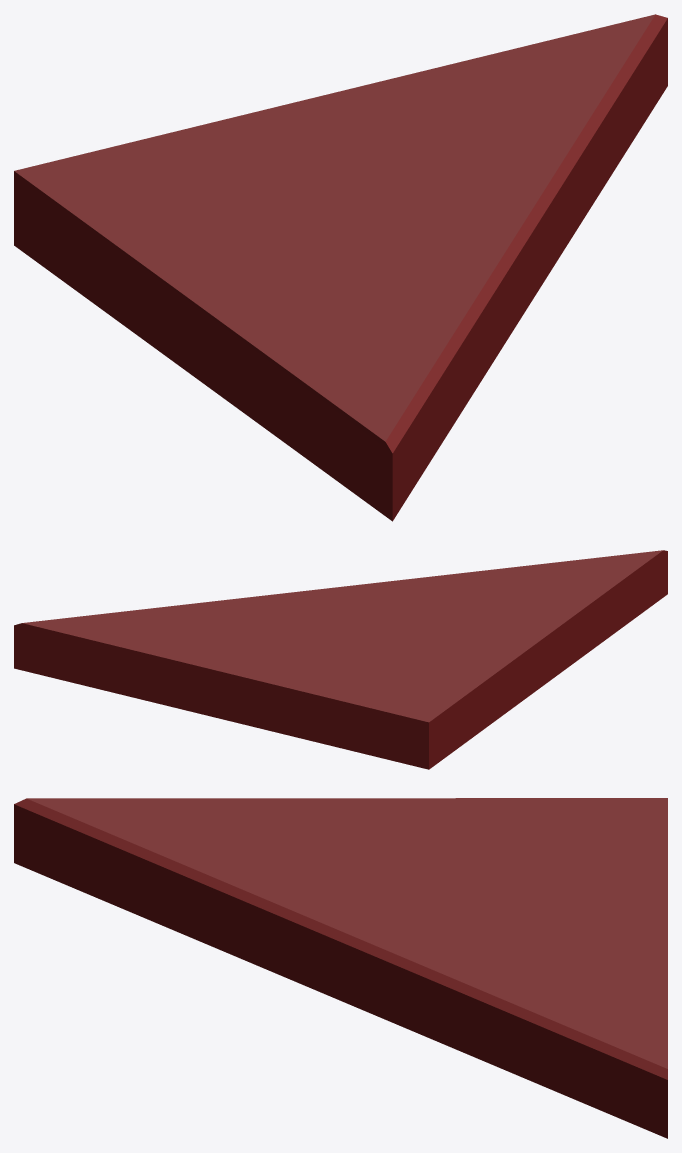
The model's file is Bottom_A02.fbx.
3 renders of one model, top to bottom at view 1: azimuth 30°, elevation 25°; view 2: azimuth 150°, elevation 25°; view 3: azimuth 270°, elevation 25°, orthographic. The views are drawn at different scales.
Visible parts, largest first — view 1: Bottom_A02; view 2: Bottom_A02; view 3: Bottom_A02.
Part boxes in pixels (<box>): Bottom_A02: <box>14,14,667,521</box>; Bottom_A02: <box>14,550,667,769</box>; Bottom_A02: <box>14,798,667,1138</box>.
Bounding box in the file's own units: 612 × 66.63 × 612.
1 material, 1 textured.
